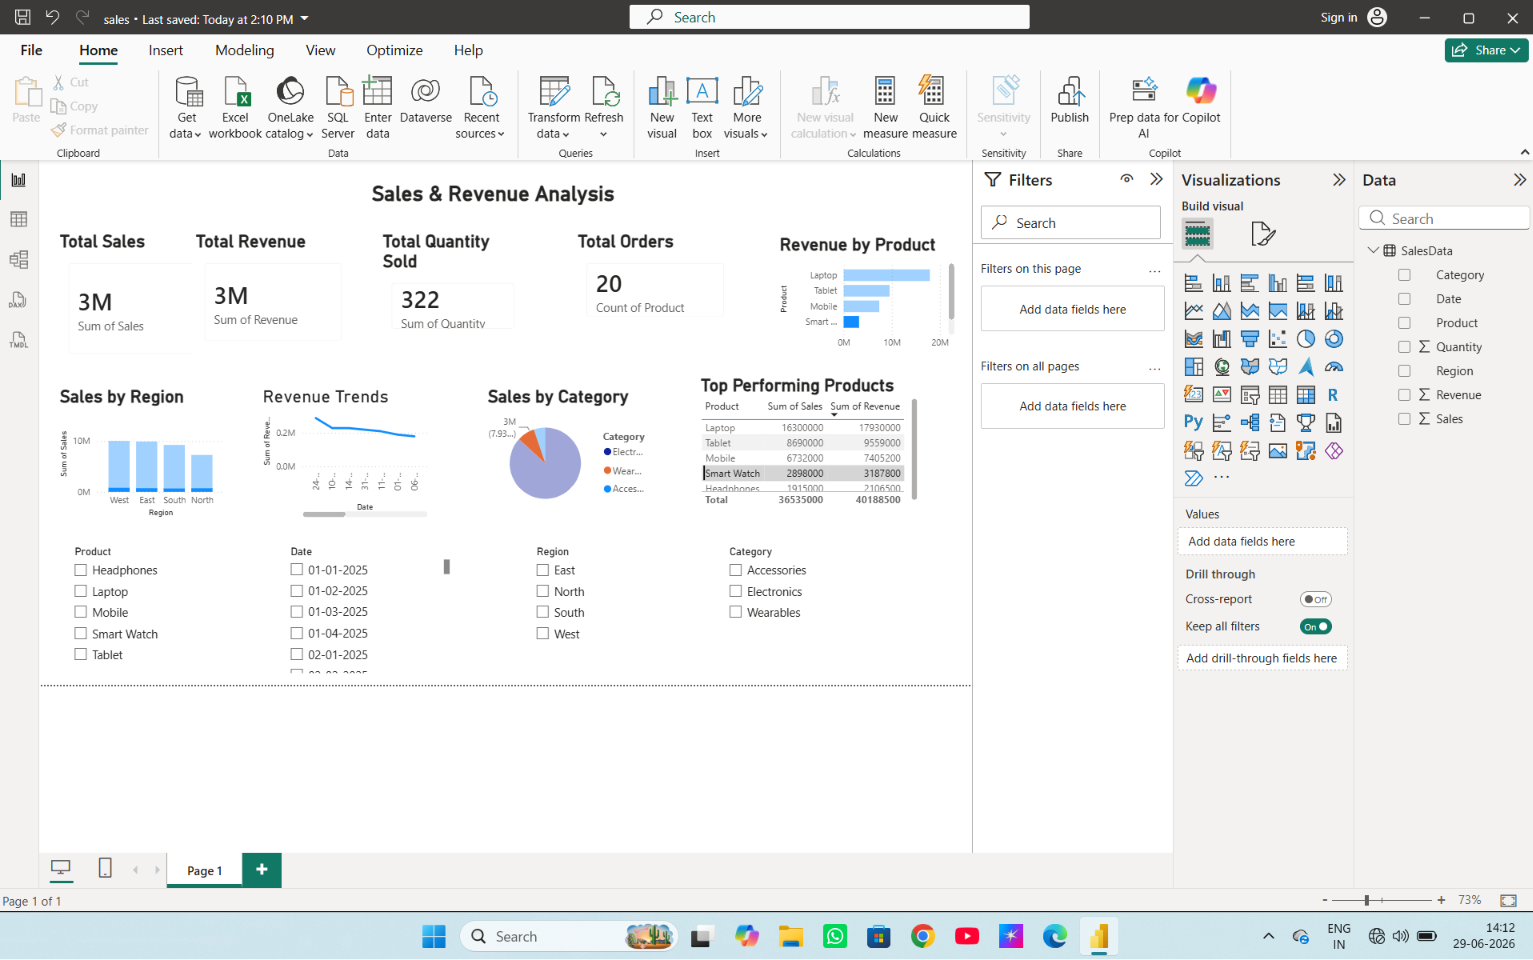

The page's visual inventory and layout, read from the dashboard file:
{"tool":"powerbi","page":{"name":"Page 1","canvas":[1280,720],"ordinal":0},"visuals":[{"type":"textbox","title":"Sales & Revenue Analysis","box":[451.5,28.8,483,68.6],"z":0},{"type":"cardVisual","title":"Total Sales","fields":{"Data":["Sum(SalesData.Sales)"]},"box":[23.3,97.4,236,185.2],"z":1000},{"type":"cardVisual","title":"Total Quantity Sold","fields":{"Data":["Sum(SalesData.Quantity)"]},"box":[466.6,97.4,203.1,152.3],"z":2000},{"type":"cardVisual","title":"Total Revenue","fields":{"Data":["Sum(SalesData.Revenue)"]},"box":[209.9,97.4,222.3,168.8],"z":3000},{"type":"cardVisual","title":"Total Orders","fields":{"Data":["CountNonNull(SalesData.Product)"]},"box":[734.1,97.4,223.7,135.8],"z":4000},{"type":"clusteredBarChart","title":"Revenue by Product","fields":{"Y":["Sum(SalesData.Revenue)"],"Category":["SalesData.Product"]},"box":[1011.3,101.5,249.7,167.4],"z":4001},{"type":"clusteredColumnChart","title":"Sales by Region","fields":{"Category":["SalesData.Region"],"Y":["Sum(SalesData.Sales)"]},"box":[23.3,310.1,236,185.2],"z":4002},{"type":"lineChart","title":"Revenue Trends","fields":{"Category":["SalesData.Date"],"Y":["Sum(SalesData.Revenue)"]},"box":[301.9,310.1,236,185.2],"z":4003},{"type":"pieChart","title":"Sales by Category","fields":{"Category":["SalesData.Category"],"Y":["Sum(SalesData.Sales)"]},"box":[610.6,310.1,236,185.2],"z":4004},{"type":"slicer","fields":{"Values":["SalesData.Region"]},"box":[669.6,524.2,304.6,183.9],"z":4005},{"type":"slicer","fields":{"Values":["SalesData.Category"]},"box":[934.5,524.2,236,185.2],"z":4006},{"type":"slicer","fields":{"Values":["SalesData.Product"]},"box":[35.7,524.2,236,185.2],"z":4007},{"type":"slicer","fields":{"Values":["SalesData.Date"]},"box":[332.1,524.2,236,185.2],"z":4008},{"type":"tableEx","title":"Top Performing Products","fields":{"Values":["SalesData.Product","Sum(SalesData.Sales)","Sum(SalesData.Revenue)"]},"box":[902.9,295,307.4,185.2],"z":4009}]}

Visuals, with their boxes on the page's 1280x720 design canvas (x1, y1, x2, y2). These are canvas units, not pixel positions in the 1533x960 screenshot, which may show the page scaled, cropped or inside an application window:
"Sales & Revenue Analysis" textbox: left=452, top=29, right=934, bottom=97
"Total Sales" cardVisual: left=23, top=97, right=259, bottom=283
"Total Quantity Sold" cardVisual: left=467, top=97, right=670, bottom=250
"Total Revenue" cardVisual: left=210, top=97, right=432, bottom=266
"Total Orders" cardVisual: left=734, top=97, right=958, bottom=233
"Revenue by Product" clusteredBarChart: left=1011, top=102, right=1261, bottom=269
"Sales by Region" clusteredColumnChart: left=23, top=310, right=259, bottom=495
"Revenue Trends" lineChart: left=302, top=310, right=538, bottom=495
"Sales by Category" pieChart: left=611, top=310, right=847, bottom=495
slicer - SalesData.Region: left=670, top=524, right=974, bottom=708
slicer - SalesData.Category: left=934, top=524, right=1170, bottom=709
slicer - SalesData.Product: left=36, top=524, right=272, bottom=709
slicer - SalesData.Date: left=332, top=524, right=568, bottom=709
"Top Performing Products" tableEx: left=903, top=295, right=1210, bottom=480
